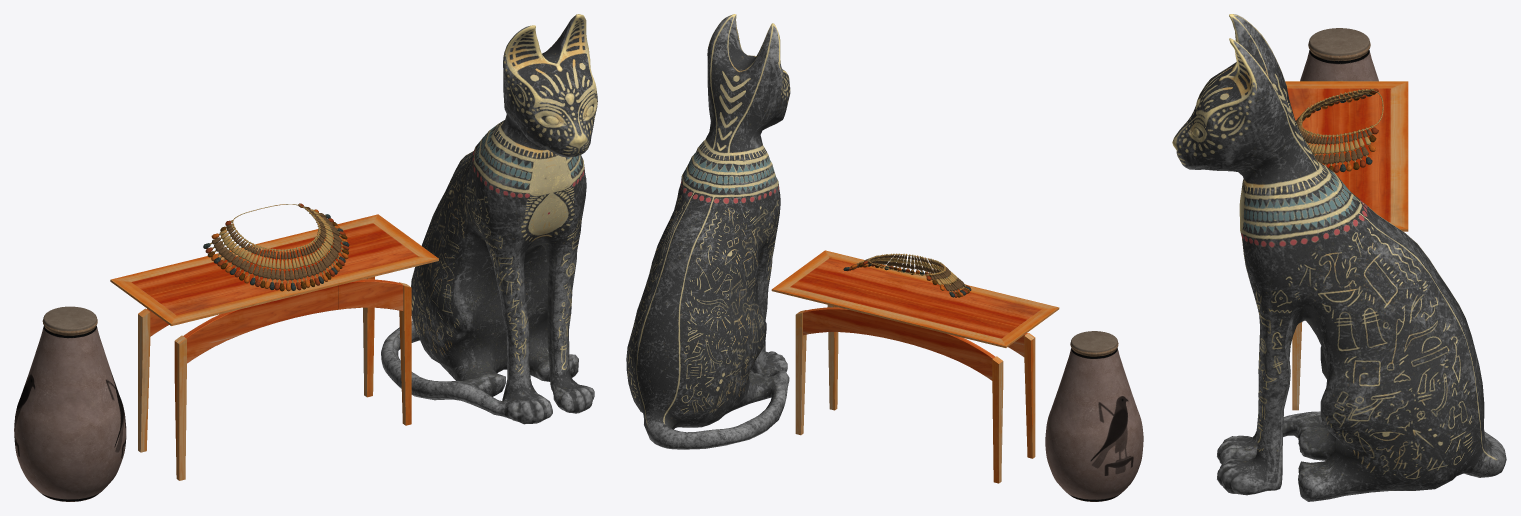
File: Show Props.fbx
3 renders of one model, left to right at view 1: azimuth 30°, elevation 25°; view 2: azimuth 150°, elevation 25°; view 3: azimuth 270°, elevation 25°, orthographic. The views are drawn at different scales.
Parts seen in each view (by area): view 1: defaultMaterial, Drawer_F_low_M_FloatingTable_0, Clay_Pottery_Clay_Pottery_0, Object_2; view 2: defaultMaterial, Drawer_F_low_M_FloatingTable_0, Clay_Pottery_Clay_Pottery_0, Object_2; view 3: defaultMaterial, Drawer_F_low_M_FloatingTable_0, Clay_Pottery_Clay_Pottery_0, Object_2.
Part boxes in pixels (bbox=[...]): defaultMaterial: bbox=[381, 14, 597, 424]; Drawer_F_low_M_FloatingTable_0: bbox=[110, 214, 438, 480]; Clay_Pottery_Clay_Pottery_0: bbox=[14, 306, 126, 501]; Object_2: bbox=[203, 203, 349, 291]; defaultMaterial: bbox=[626, 14, 790, 449]; Drawer_F_low_M_FloatingTable_0: bbox=[771, 250, 1059, 483]; Clay_Pottery_Clay_Pottery_0: bbox=[1045, 331, 1143, 501]; Object_2: bbox=[843, 253, 971, 297]; defaultMaterial: bbox=[1172, 14, 1506, 501]; Drawer_F_low_M_FloatingTable_0: bbox=[1285, 81, 1408, 410]; Clay_Pottery_Clay_Pottery_0: bbox=[1300, 28, 1378, 81]; Object_2: bbox=[1296, 88, 1383, 172].
Size of the model in its own units: 287 by 200 by 133.
4 materials, 4 textured.
